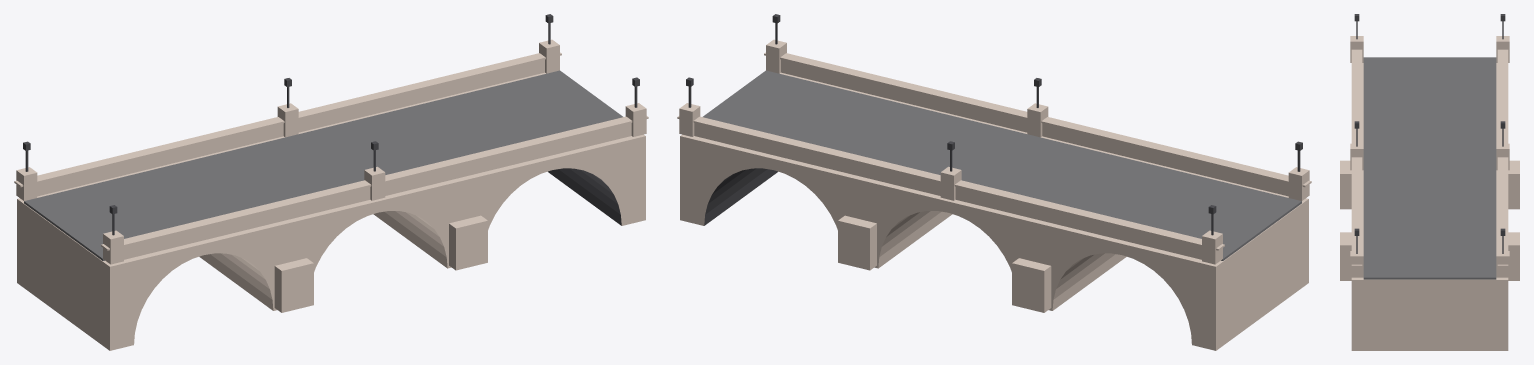
File: bridge.glb
3 renders of one model, left to right at view 1: azimuth 30°, elevation 25°; view 2: azimuth 150°, elevation 25°; view 3: azimuth 270°, elevation 25°, orthographic. The views are drawn at different scales.
Visible parts, largest first — view 1: Cube; view 2: Cube; view 3: Cube.
Part boxes in pixels (<box>): Cube: <box>14,14,648,350</box>; Cube: <box>677,14,1311,350</box>; Cube: <box>1340,14,1519,350</box>.
Size of the model in its own units: 40.4 by 10.02 by 13.8.
